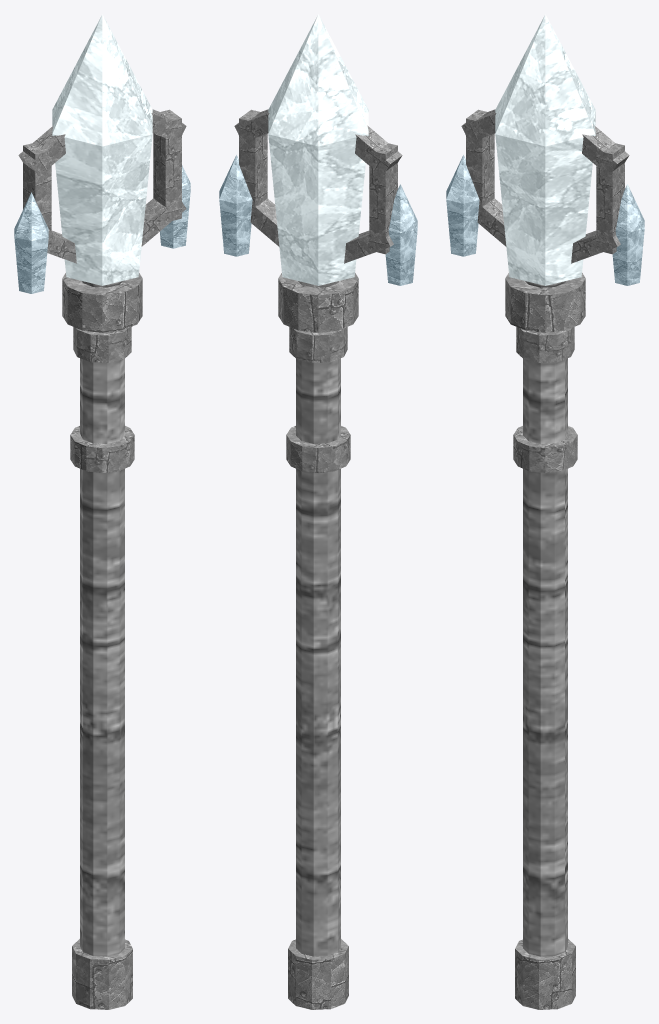
Rendered from staff-frost-advanced.glb.
The picture shows the model from 3 angles, left to right: view 1: azimuth 30°, elevation 25°; view 2: azimuth 150°, elevation 25°; view 3: azimuth 330°, elevation 25°; orthographic projection.
Parts seen in each view (by area): view 1: shaft, advanced-focus, upper-band, pommel, crown-0, left-satellite, lower-band, neck-band, crown-3, crown-2, right-satellite, crown-5 (+2 smaller); view 2: shaft, advanced-focus, upper-band, pommel, right-satellite, crown-3, left-satellite, crown-0, lower-band, neck-band, crown-2, crown-5 (+1 smaller); view 3: shaft, advanced-focus, upper-band, pommel, left-satellite, crown-0, right-satellite, lower-band, crown-3, neck-band, crown-1, crown-5 (+2 smaller).
Boxes of the visible parts, x1,y1,x2,y2 form: shaft: [80, 281, 124, 956]; advanced-focus: [52, 14, 152, 285]; upper-band: [62, 273, 142, 332]; pommel: [72, 939, 132, 1009]; crown-0: [153, 109, 181, 222]; left-satellite: [14, 192, 48, 293]; lower-band: [70, 426, 134, 472]; neck-band: [73, 327, 131, 362]; crown-3: [23, 143, 51, 251]; crown-2: [18, 125, 65, 176]; right-satellite: [160, 165, 190, 248]; crown-5: [141, 197, 186, 246]; shaft: [296, 281, 340, 956]; advanced-focus: [268, 14, 368, 285]; upper-band: [278, 273, 358, 332]; pommel: [288, 939, 348, 1009]; right-satellite: [219, 155, 252, 256]; crown-3: [369, 143, 397, 254]; left-satellite: [385, 184, 417, 285]; crown-0: [239, 109, 267, 222]; lower-band: [286, 426, 350, 472]; neck-band: [289, 327, 347, 362]; crown-2: [355, 125, 402, 176]; crown-5: [250, 198, 279, 246]; shaft: [523, 281, 567, 956]; advanced-focus: [495, 14, 595, 285]; upper-band: [505, 273, 585, 332]; pommel: [515, 939, 575, 1009]; left-satellite: [446, 155, 479, 256]; crown-0: [596, 143, 624, 254]; right-satellite: [612, 184, 644, 285]; lower-band: [513, 426, 577, 472]; crown-3: [466, 109, 494, 221]; neck-band: [516, 327, 574, 362]; crown-1: [582, 125, 629, 175]; crown-5: [571, 230, 620, 263].
Size of the model in its own units: 0.392 by 1.97 by 0.1819.
4 materials, 4 textured.
